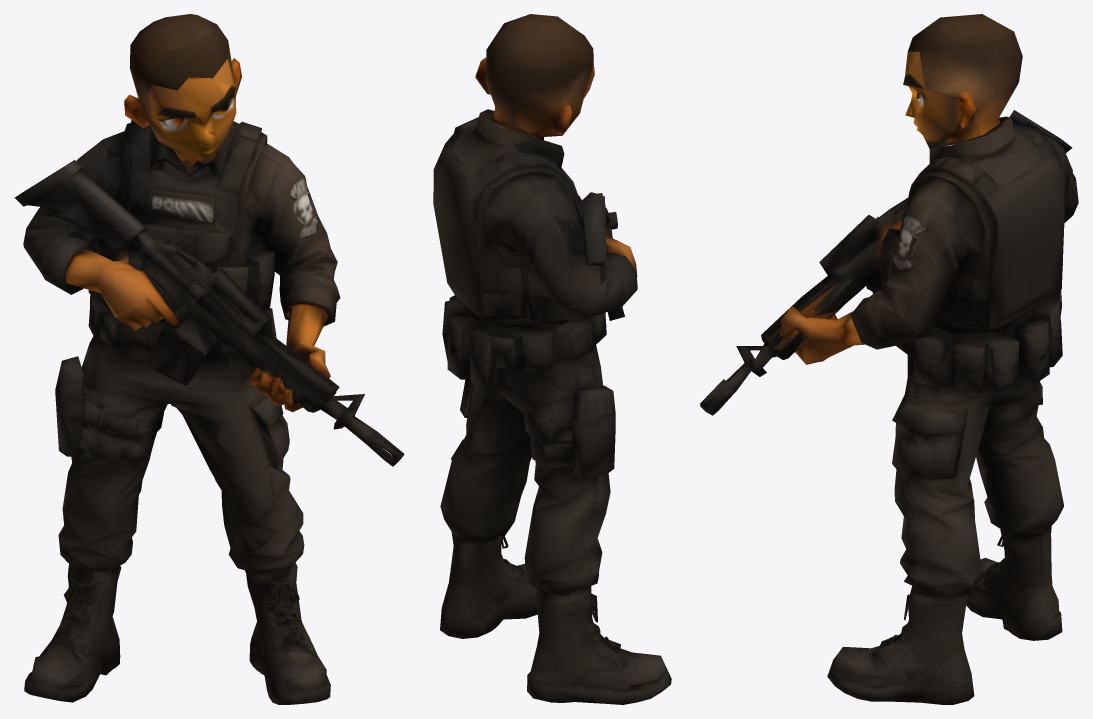
The model's file is demo_warden_01.glb.
3 views of the same model, side by side, from view 1: azimuth 30°, elevation 25°; view 2: azimuth 150°, elevation 25°; view 3: azimuth 270°, elevation 25° (orthographic). The views are drawn at different scales.
Visible parts, largest first — view 1: node_0; view 2: node_0; view 3: node_0.
Part boxes in pixels (bbox=[...]): node_0: bbox=[14, 14, 404, 704]; node_0: bbox=[433, 14, 671, 704]; node_0: bbox=[700, 14, 1078, 704].
Size of the model in its own units: 0.4586 by 1.07 by 0.5752.
Materials: 1 (1 with a texture image).
